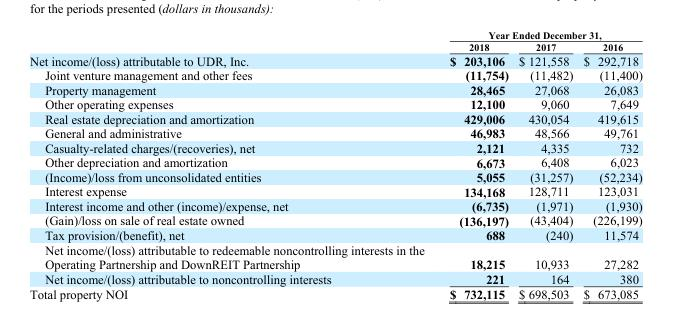table: (29, 29, 641, 300)
table column: (29, 29, 436, 300), (436, 29, 513, 300), (513, 29, 577, 300), (577, 29, 641, 300)
table column header: (29, 29, 641, 52)
table row: (29, 242, 641, 271), (29, 52, 641, 67), (29, 67, 641, 82), (29, 96, 641, 111), (29, 125, 641, 140), (29, 154, 641, 169), (29, 183, 641, 198), (29, 198, 641, 213), (29, 227, 641, 242), (29, 285, 641, 300), (29, 82, 641, 96), (29, 111, 641, 125), (29, 140, 641, 154), (29, 169, 641, 183), (29, 213, 641, 227), (29, 271, 641, 285), (29, 40, 641, 52), (29, 29, 641, 40)
table spanning cell: (436, 29, 641, 40)
